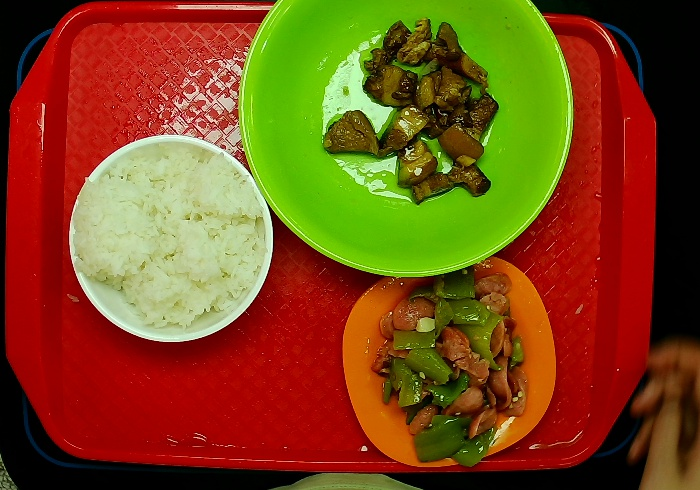YKMZ-Fan_Wan: (58, 127, 289, 365)
YKMZ-Ju_Se_Fang_Die: (327, 250, 571, 488)
YKMZ-Lv_Se_Tang_Wan: (227, 1, 583, 288)
